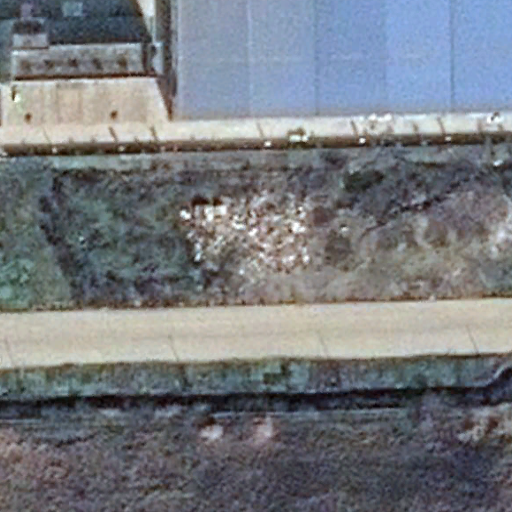msw: (181, 187, 306, 282)
